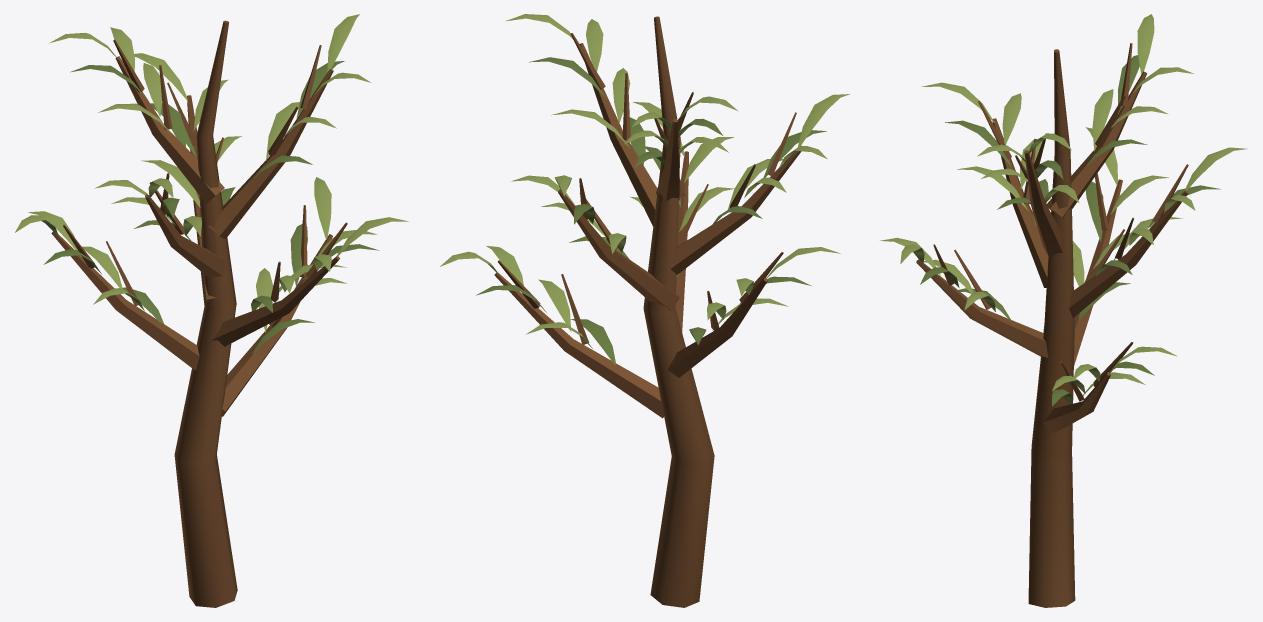
File: crop_olive_tree_growing.glb
The picture shows the model from 3 angles, left to right: view 1: azimuth 30°, elevation 25°; view 2: azimuth 150°, elevation 25°; view 3: azimuth 270°, elevation 25°; orthographic projection. The views are drawn at different scales.
Visible parts, largest first — view 1: olive_b_0, olive_leaf_0_1, olive_leaf_0_0; view 2: olive_b_0, olive_leaf_0_1, olive_leaf_0_0; view 3: olive_b_0, olive_leaf_0_1, olive_leaf_0_0.
Boxes of the visible parts, x1,y1,x2,y2 form: olive_b_0: (51,20,347,607); olive_leaf_0_1: (15,14,408,332); olive_leaf_0_0: (43,61,379,353); olive_b_0: (494,16,801,607); olive_leaf_0_1: (440,14,849,349); olive_leaf_0_0: (476,57,826,364); olive_b_0: (916,43,1188,607); olive_leaf_0_1: (880,14,1247,395); olive_leaf_0_0: (920,55,1220,406).
Bounding box in the file's own units: 0.6988 × 1.07 × 0.6377.
